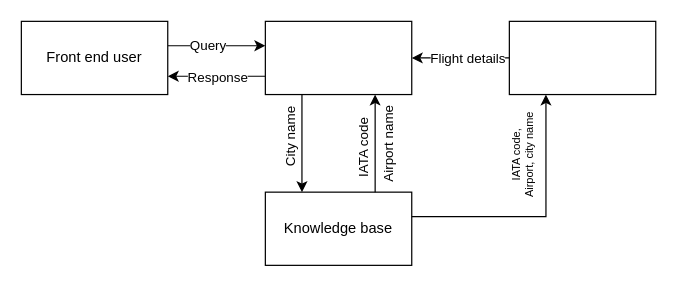
The diagram is 677 pixels wide and 287 high, and some of its shapes have lost their labels. The centre of each missing label's shape, as x and y in pixels:
"Amadeous" goes at (582,57).
"Bedrock Claude Haiku" goes at (338,57).
